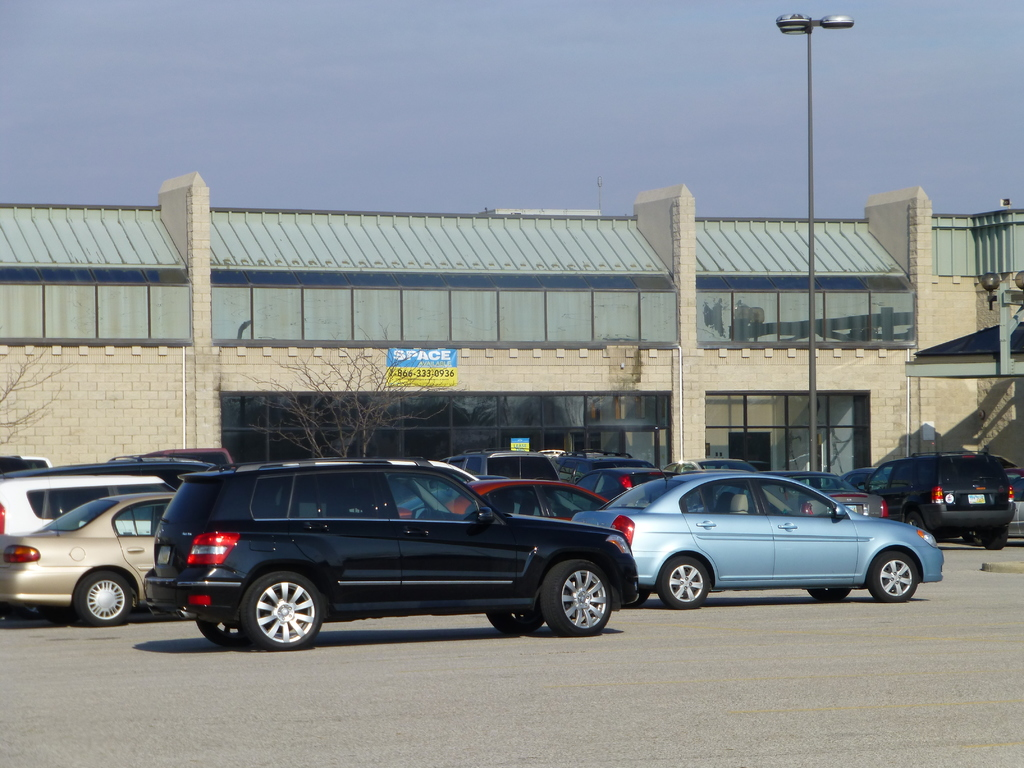Car: (0, 431, 1022, 648)
